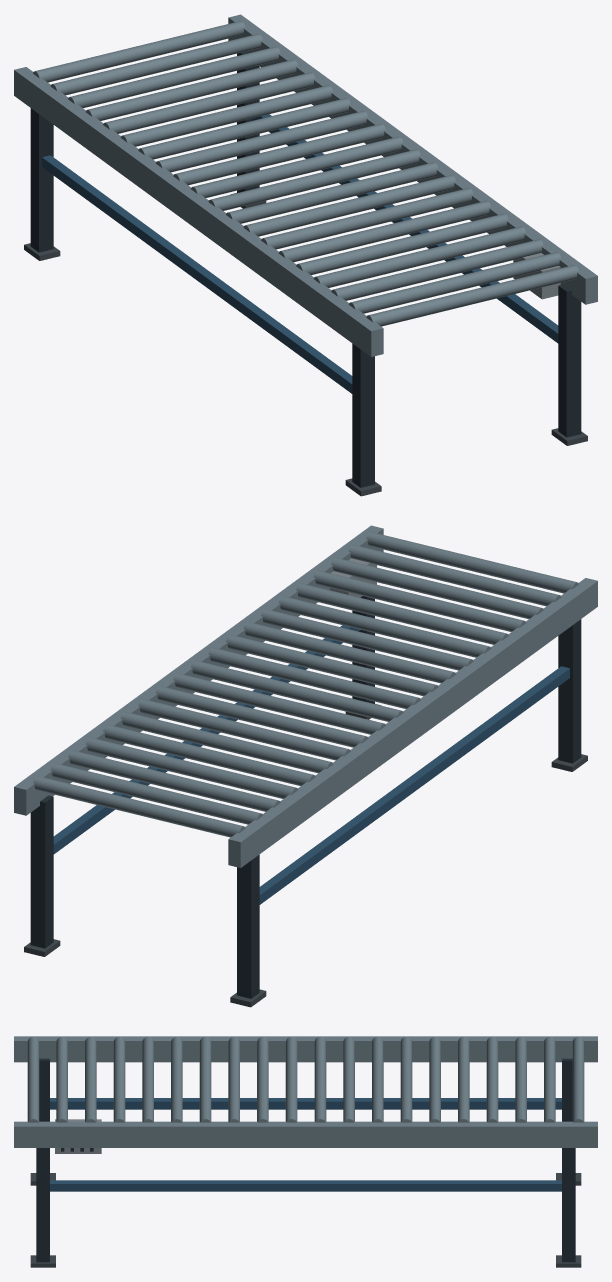
The model's file is roller-conveyor.glb.
3 views of the same model, one above another, from view 1: azimuth 30°, elevation 25°; view 2: azimuth 150°, elevation 25°; view 3: azimuth 270°, elevation 25° (orthographic). The views are drawn at different scales.
Bounding box in the file's own units: 1.1 × 0.82 × 3.
